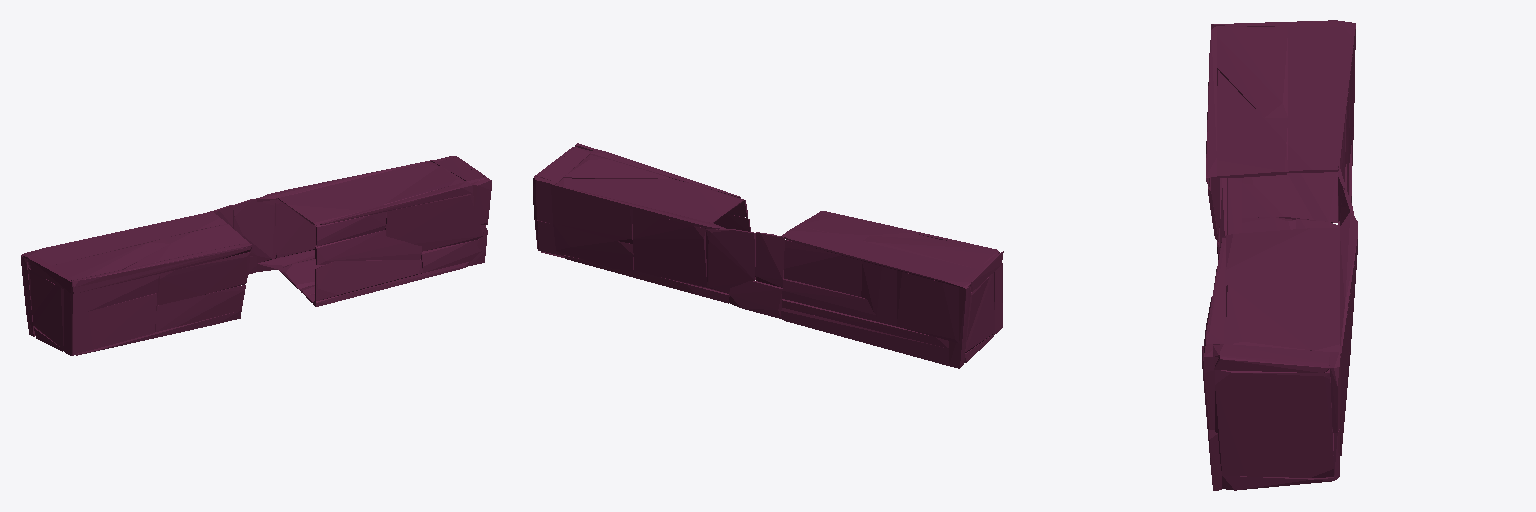
URDF robot description (blob110):
<robot name="blob110">
  <link name="random_obj_110">
    <contact>
      <lateral_friction value="1.0"/>
      <rolling_friction value="0.0"/>
      <inertia_scaling value="3.0"/>
      <contact_cfm value="0.0"/>
      <contact_erp value="1.0"/>
    </contact>
    <inertial>
      <origin rpy="0 0 0" xyz="0 0 0"/>
      <mass value="0.1"/>
      <inertia ixx="1" ixy="0" ixz="0" iyy="1" iyz="0" izz="0"/>
    </inertial>
    <visual>
      <origin rpy="0 0 0" xyz="0 0 0"/>
      <geometry>
        <mesh filename="110.obj" scale="0.015 0.015 0.015"/>
      </geometry>
      <material name="blockmat">
        <color rgba="0.41 0.19 0.31 1"/>
      </material>
    </visual>
    <collision>
      <origin rpy="0 0 0" xyz="0 0 0"/>
      <geometry>
        <mesh filename="110.obj" scale="0.015 0.015 0.015"/>
      </geometry>
    </collision>
  </link>
</robot>

--- What the picture shows (computed from the rendered views, not written in the file) ---
Views: 3 orthographic renders of the robot side by side, from view 1: azimuth 30°, elevation 25°; view 2: azimuth 150°, elevation 25°; view 3: azimuth 270°, elevation 25°.
Robot: blob110 — 1 links, 0 joints (none); root link random_obj_110; default pose: all joints at 0.
Visible links, largest first — view 1: random_obj_110; view 2: random_obj_110; view 3: random_obj_110.
Link boxes in pixels (box(x1,y1,x2,y2)): random_obj_110: box(21, 156, 491, 355); random_obj_110: box(533, 143, 1003, 368); random_obj_110: box(1202, 20, 1357, 490).
Bounding box of the posed robot: 0.0926 × 0.0176 × 0.0176 m (x, y, z).
1 mesh visuals loaded from 1 distinct referenced files (1 OBJ).